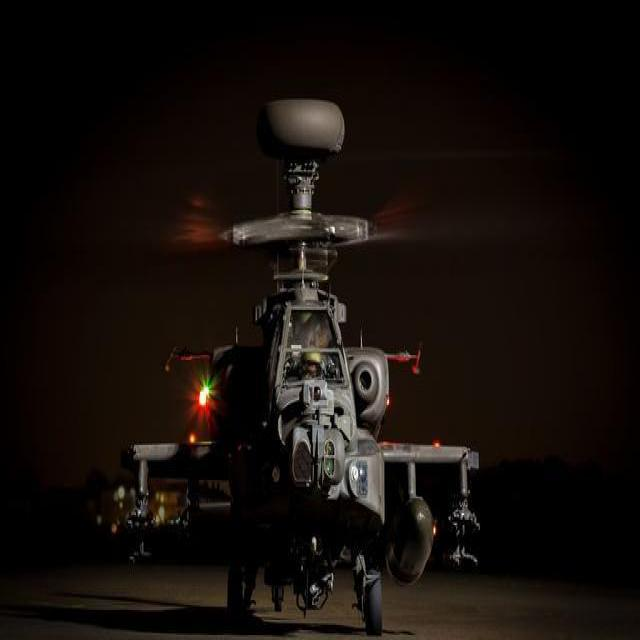MIL_HELO: (77, 67, 504, 640)
